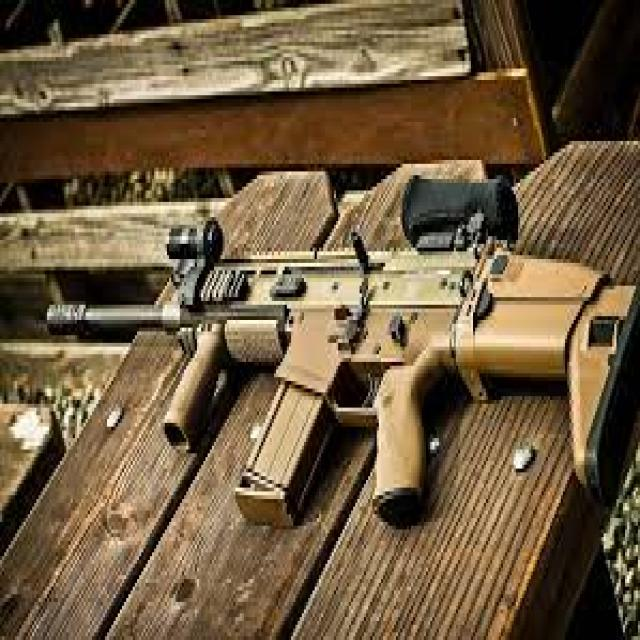Gun: (29, 172, 635, 535)
